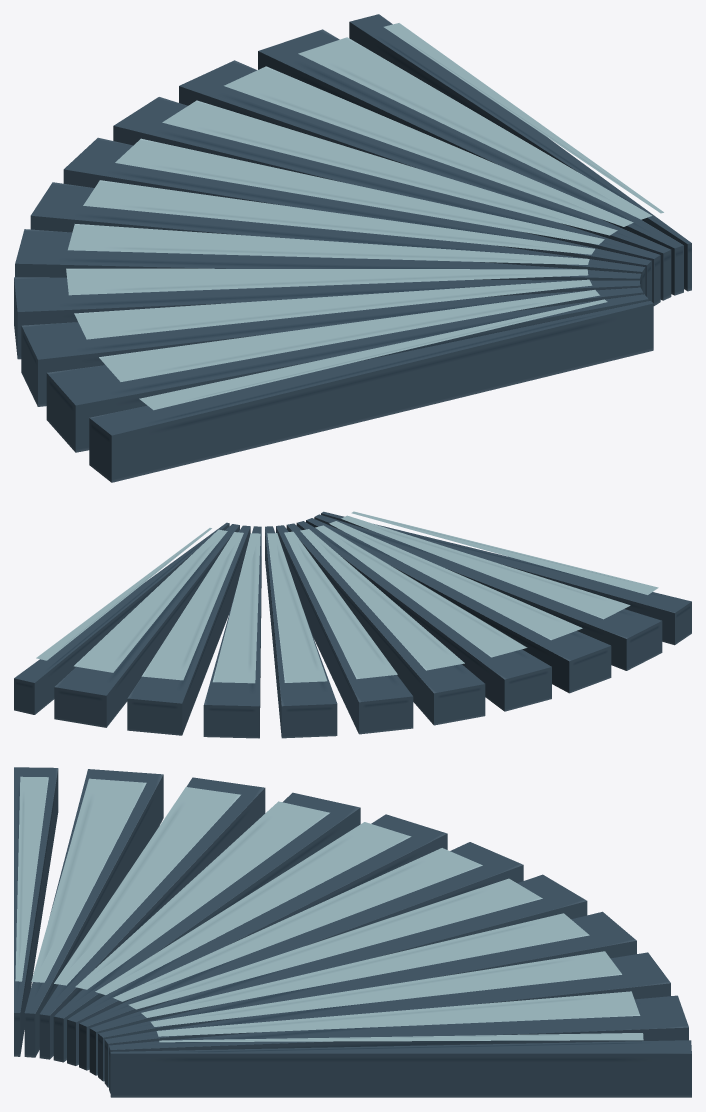
File: sc_tread_curve_right_14.obj
3 views of the same model, one above another, from view 1: azimuth 30°, elevation 25°; view 2: azimuth 150°, elevation 25°; view 3: azimuth 270°, elevation 25° (orthographic). The views are drawn at different scales.
Bounding box in the file's own units: 17.5 × 1.56 × 17.5.
1 material, 1 textured.
